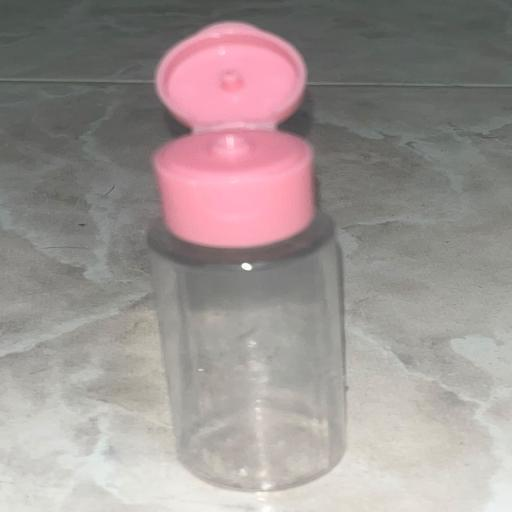PET: (91, 9, 395, 464)
